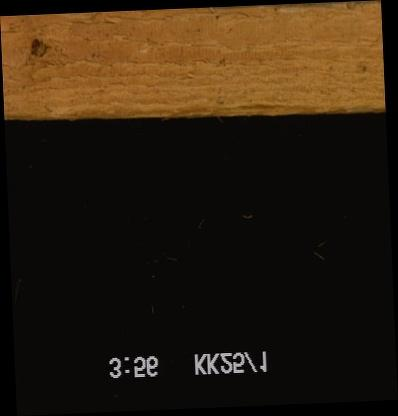dry_knot: (27, 37, 49, 59)
